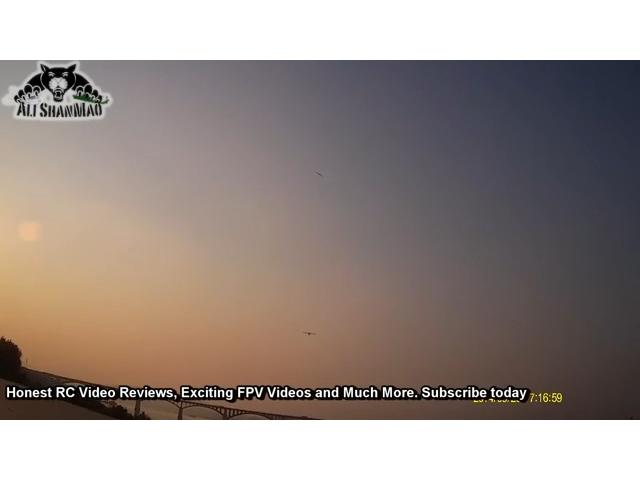Anti-Drone: (308, 164, 330, 187)
